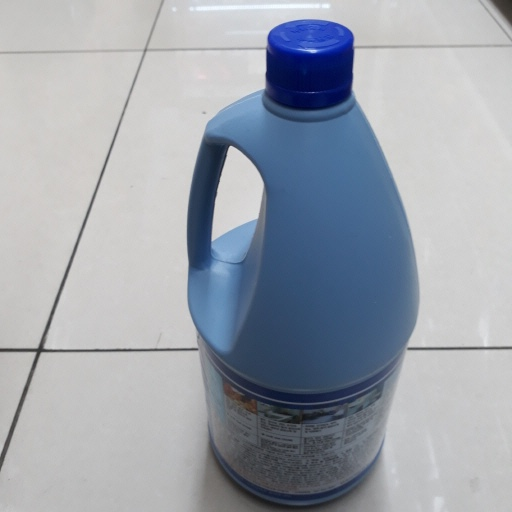Plastic_1: (185, 21, 423, 512)
